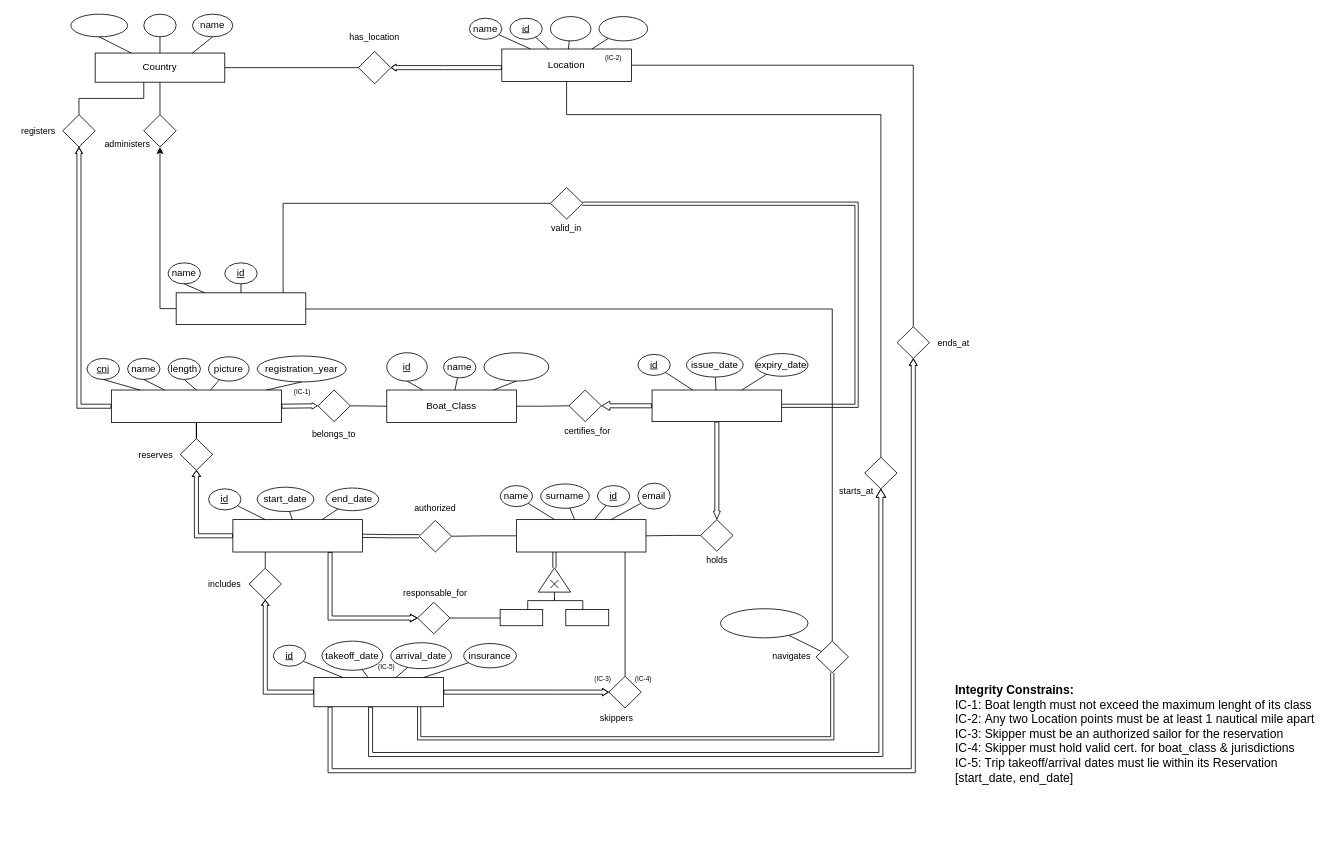
Image size: 1332x866. Some labels were removed from this diagram. The shapes that lost their labels are listed below. From the top down, each one's centre as x and y in pixels, then its label:
At (x=99, y=25): "iso_code".
At (x=159, y=25): "flag".
At (x=570, y=28): "latitude".
At (x=623, y=28): "longitude".
At (x=240, y=308): "Jurisdiction".
At (x=516, y=366): "max_length".
At (x=196, y=405): "Boat".
At (x=716, y=405): "Certification".
At (x=297, y=535): "Reservation".
At (x=581, y=535): "Sailor".
At (x=521, y=617): "Senior".
At (x=587, y=617): "Junior".
At (x=764, y=623): "sequence_order".
At (x=378, y=692): "Trip".
